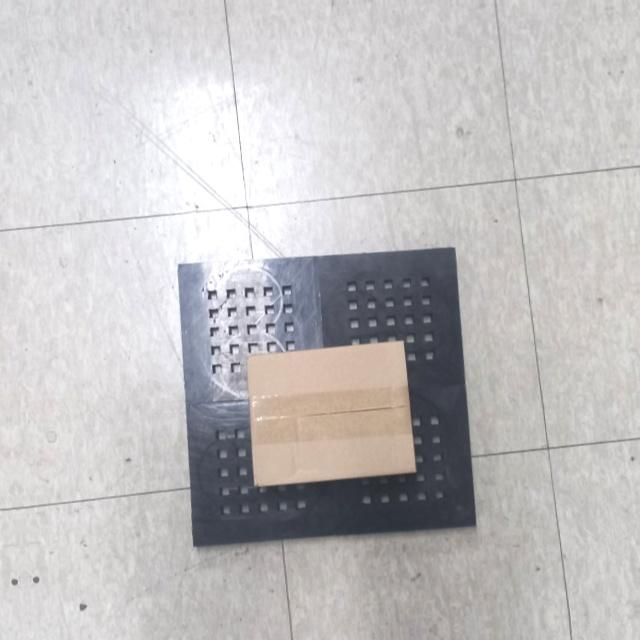box: (234, 333, 424, 497)
pallet: (161, 227, 492, 568)
